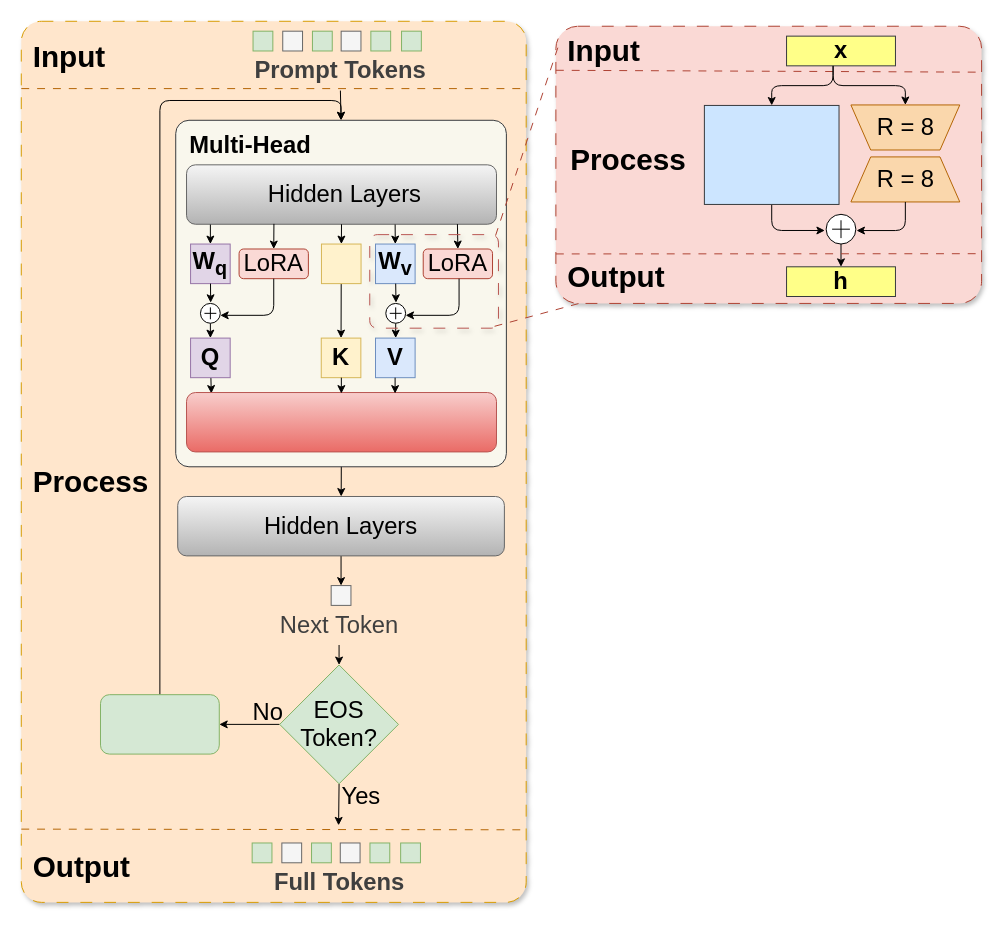
The diagram is 1005 pixels wide and 927 high, and some of its shapes have lost their labels. Each missing label, with the centre of its shape:
Attention: (341,422)
Concat: (159,724)
Pretrained weights: (771,154)
W k: (340,263)
